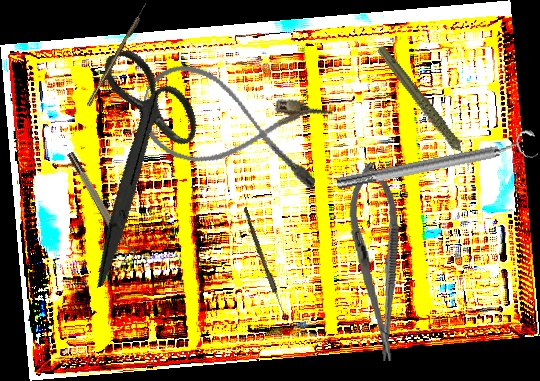Cannula: (130, 56, 337, 196)
Fixation Ring: (333, 127, 540, 199), (65, 147, 139, 264)
Handpiece: (375, 32, 474, 185)
Hook Surgical: (85, 1, 150, 108)
Iris Scissors: (27, 36, 238, 288)
Needle Holder: (343, 160, 412, 364)
Surgical Spoon: (240, 206, 290, 322)
